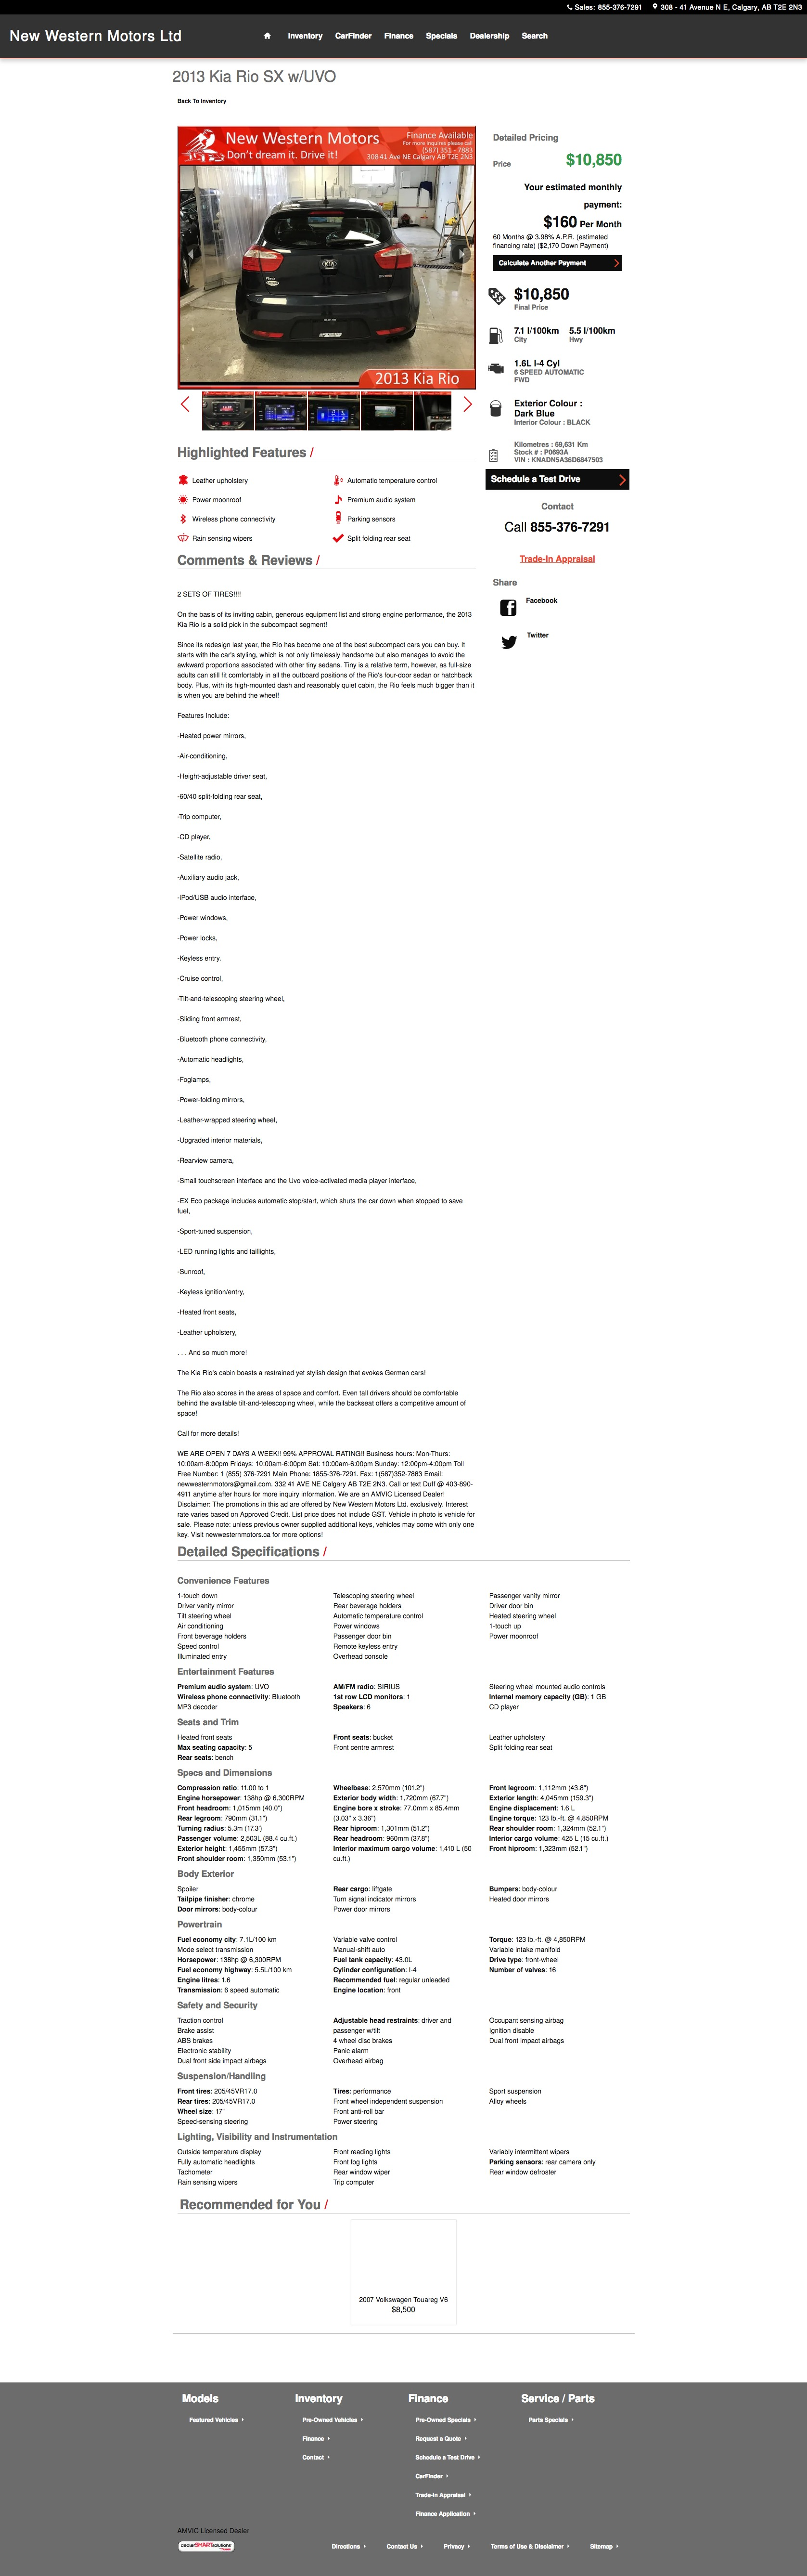car: (463, 396, 474, 412)
